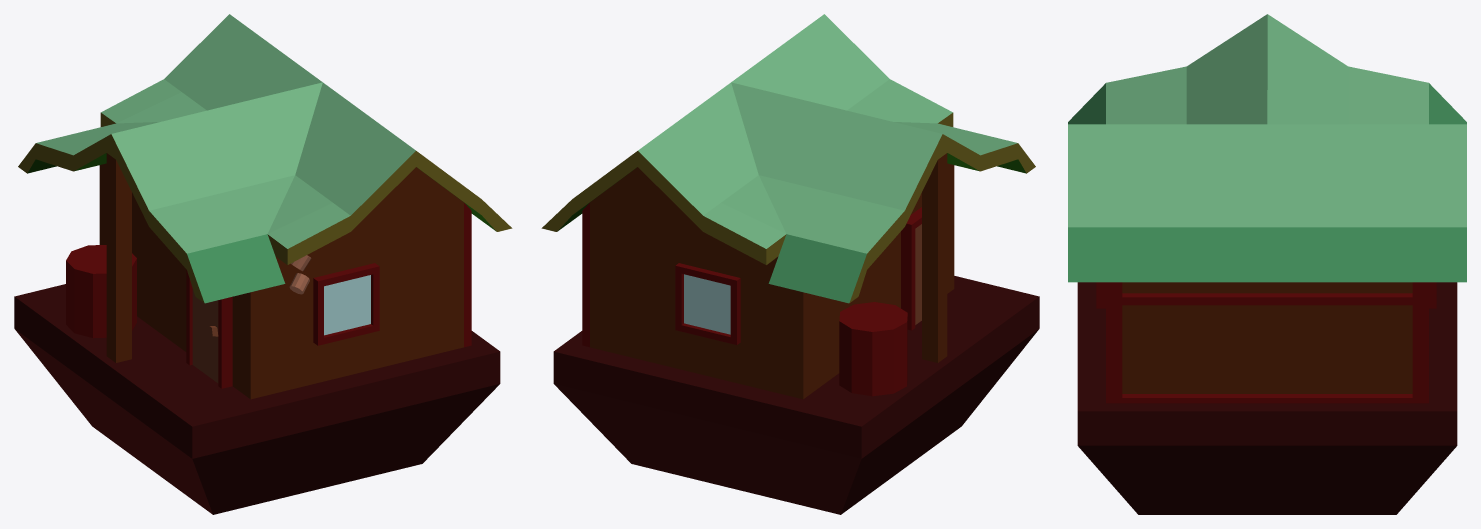
File: tavern.glb
3 renders of one model, left to right at view 1: azimuth 30°, elevation 25°; view 2: azimuth 150°, elevation 25°; view 3: azimuth 270°, elevation 25°, orthographic. The views are drawn at different scales.
Visible parts, largest first — view 1: Cube.001; view 2: Cube.001; view 3: Cube.001.
Boxes of the visible parts, x1=… form: Cube.001: x1=14, y1=14, x2=512, y2=514; Cube.001: x1=541, y1=14, x2=1039, y2=514; Cube.001: x1=1068, y1=14, x2=1466, y2=514.
Bounding box in the file's own units: 10.25 × 10.76 × 10.5.
1 material, 1 textured.
